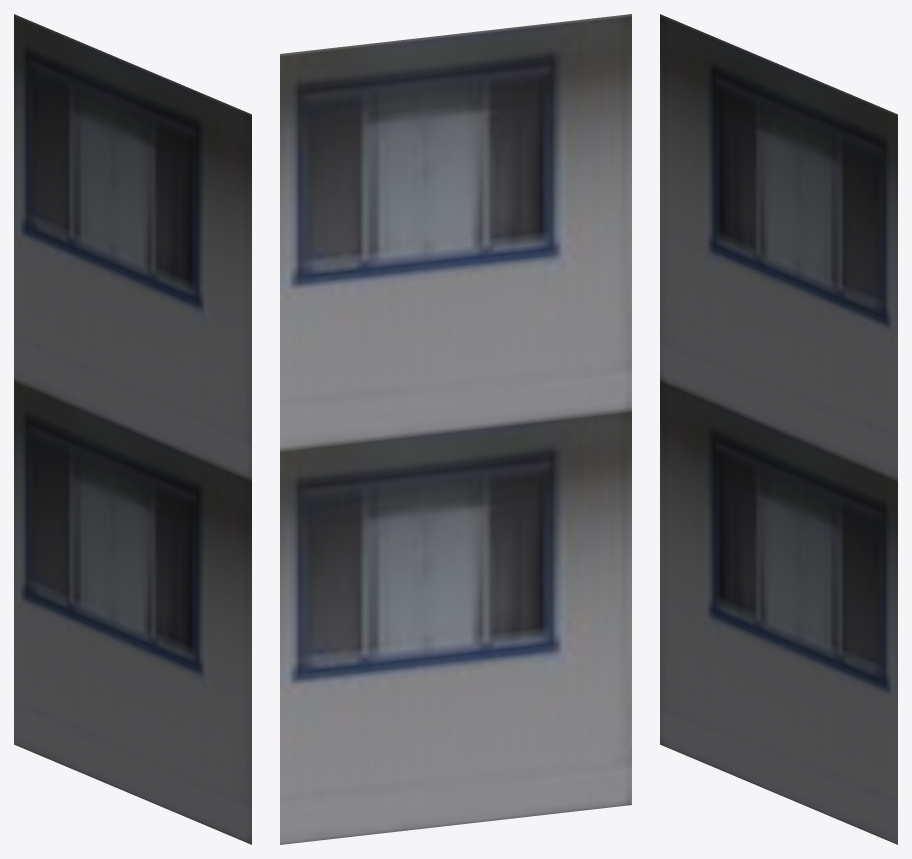
Rendered from ResTex__2791.fbx.
3 views of the same model, side by side, from view 1: azimuth 90°, elevation 25°; view 2: azimuth 150°, elevation 25°; view 3: azimuth 270°, elevation 25° (orthographic). The views are drawn at different scales.
Parts seen in each view (by area): view 1: CityEngineMaterial_9_m; view 2: CityEngineMaterial_9_m; view 3: CityEngineMaterial_9_m.
Part boxes in pixels (<box>): CityEngineMaterial_9_m: <box>14,14,251,844</box>; CityEngineMaterial_9_m: <box>280,14,631,844</box>; CityEngineMaterial_9_m: <box>660,14,897,844</box>.
Bounding box in the file's own units: 1.77 × 6 × 1.77.
Materials: 1 (1 with a texture image).
